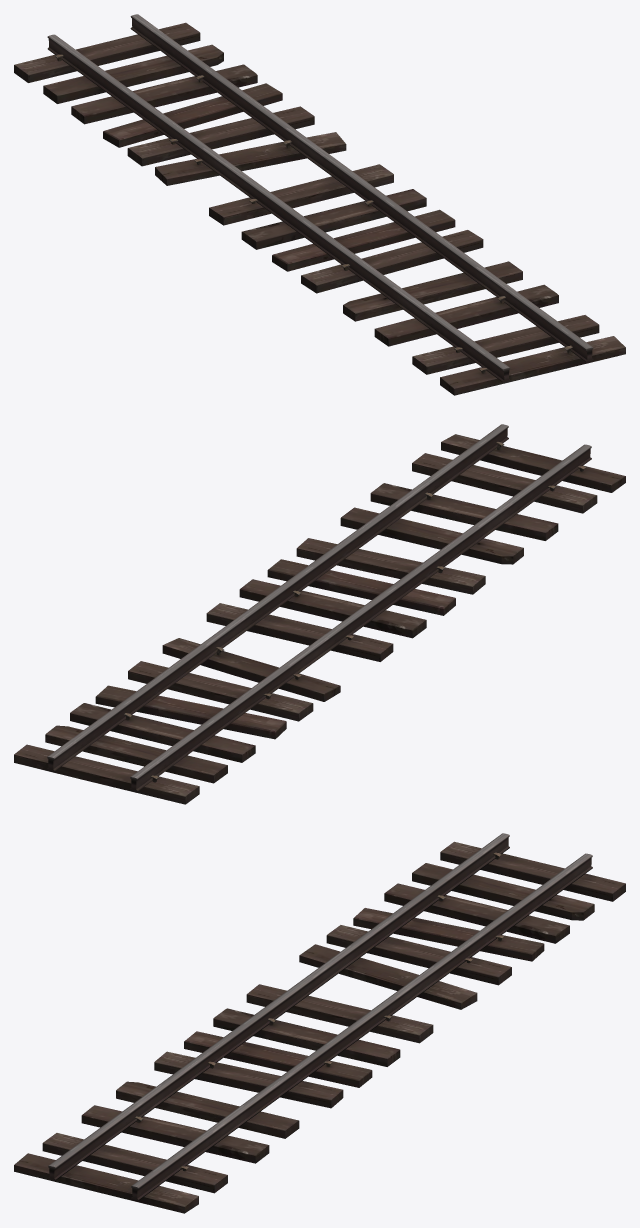
3 renders of one model, top to bottom at view 1: azimuth 30°, elevation 25°; view 2: azimuth 150°, elevation 25°; view 3: azimuth 330°, elevation 25°, orthographic.
Parts seen in each view (by area): view 1: body0_model0_lod0_mesh0; view 2: body0_model0_lod0_mesh0; view 3: body0_model0_lod0_mesh0.
Boxes of the visible parts, x1,y1,x2,y2 form: body0_model0_lod0_mesh0: (14,14,625,395); body0_model0_lod0_mesh0: (14,424,625,804); body0_model0_lod0_mesh0: (14,833,625,1213).
Bounding box in the file's own units: 56.45 × 6.69 × 255.
Materials: 1 (1 with a texture image).
